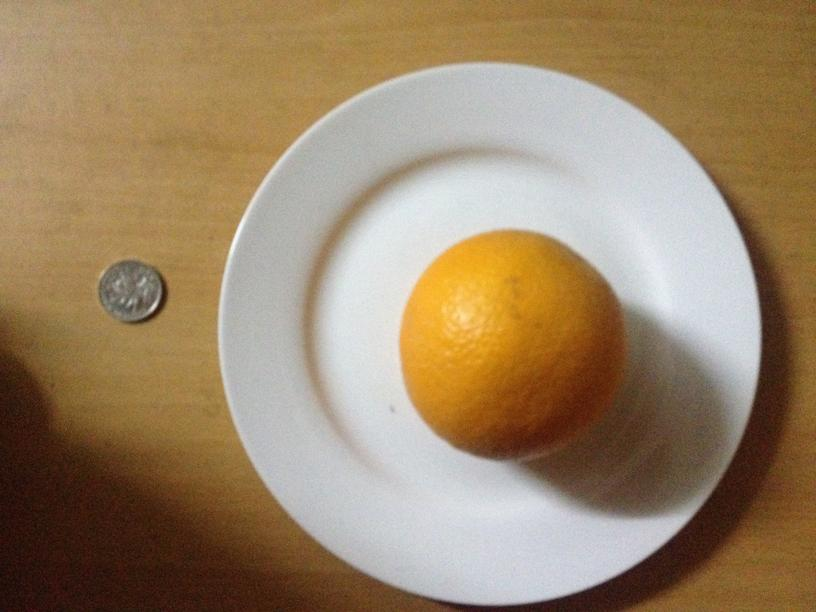coin: (94, 260, 162, 323)
orange: (397, 226, 624, 458)
